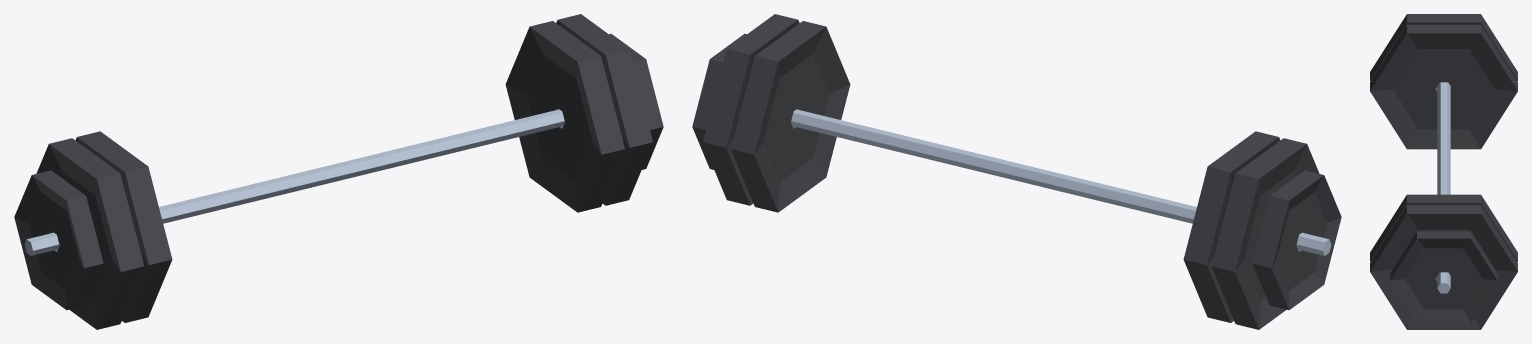
File: Bar 3.fbx
3 renders of one model, left to right at view 1: azimuth 30°, elevation 25°; view 2: azimuth 150°, elevation 25°; view 3: azimuth 270°, elevation 25°, orthographic. The views are drawn at different scales.
Parts seen in each view (by area): view 1: bar 3; view 2: bar 3; view 3: bar 3.
Part boxes in pixels (x1=…): bar 3: x1=14, y1=14, x2=663, y2=329; bar 3: x1=692, y1=14, x2=1341, y2=329; bar 3: x1=1370, y1=14, x2=1517, y2=329.
Bounding box in the file's own units: 220 × 51.14 × 59.06.
